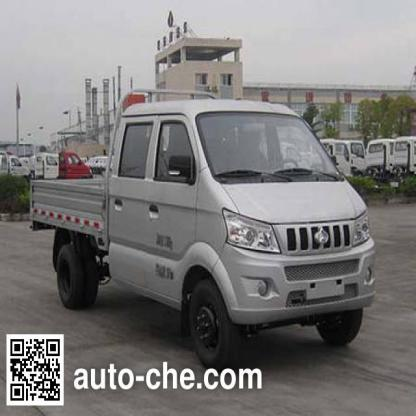normal-truck: (26, 84, 388, 326)
